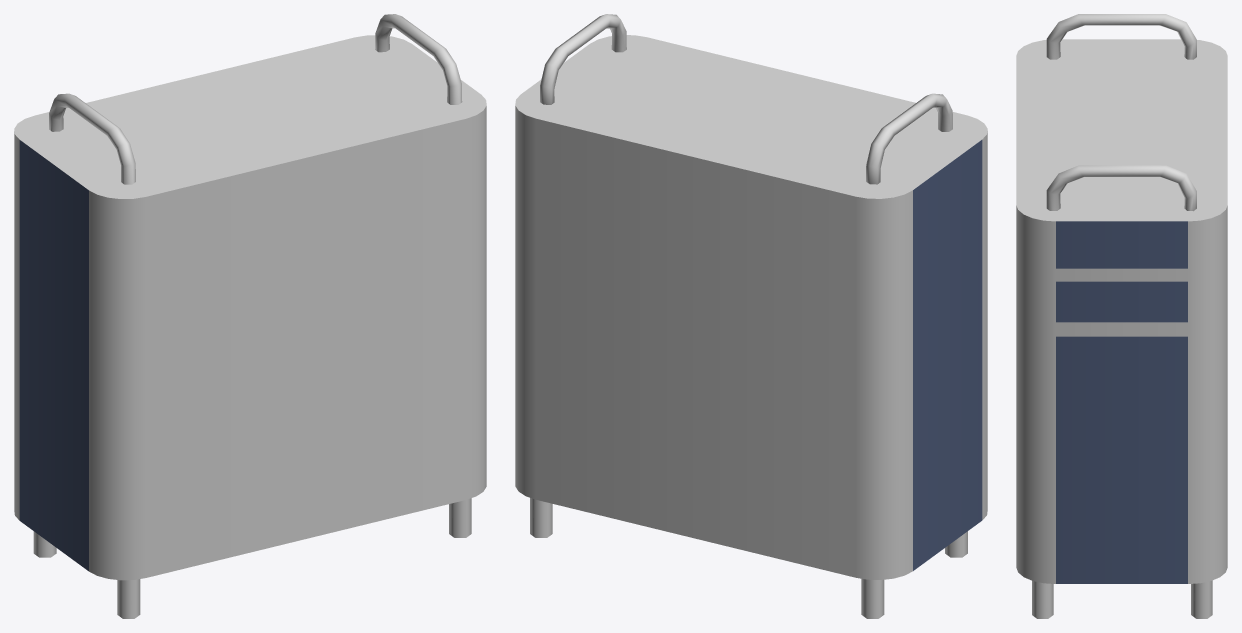
Rendered from mac.fbx.
3 views of the same model, side by side, from view 1: azimuth 30°, elevation 25°; view 2: azimuth 150°, elevation 25°; view 3: azimuth 270°, elevation 25° (orthographic). The views are drawn at different scales.
Parts seen in each view (by area): view 1: Cube.035; view 2: Cube.035; view 3: Cube.035.
Boxes of the visible parts, box(x1,y1,x2,y2) form: Cube.035: box(14, 14, 486, 618); Cube.035: box(515, 14, 987, 618); Cube.035: box(1016, 14, 1227, 618).
Bounding box in the file's own units: 1.05 × 1.21 × 0.5161.
